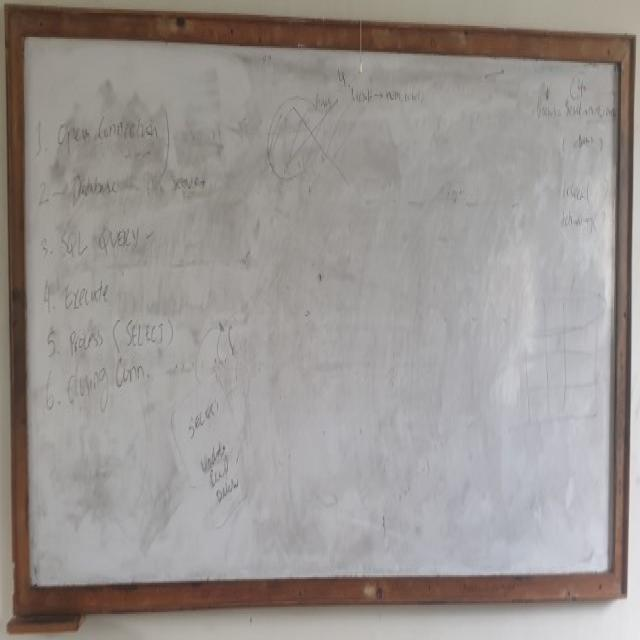White-board: (10, 20, 633, 602)
